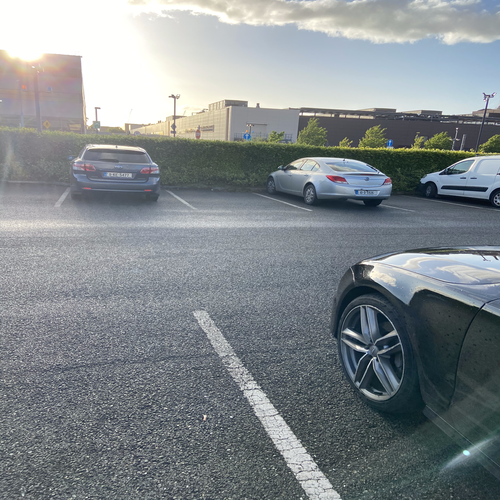Car: (329, 228, 500, 465), (71, 140, 160, 204), (266, 158, 392, 203), (415, 154, 500, 205)
